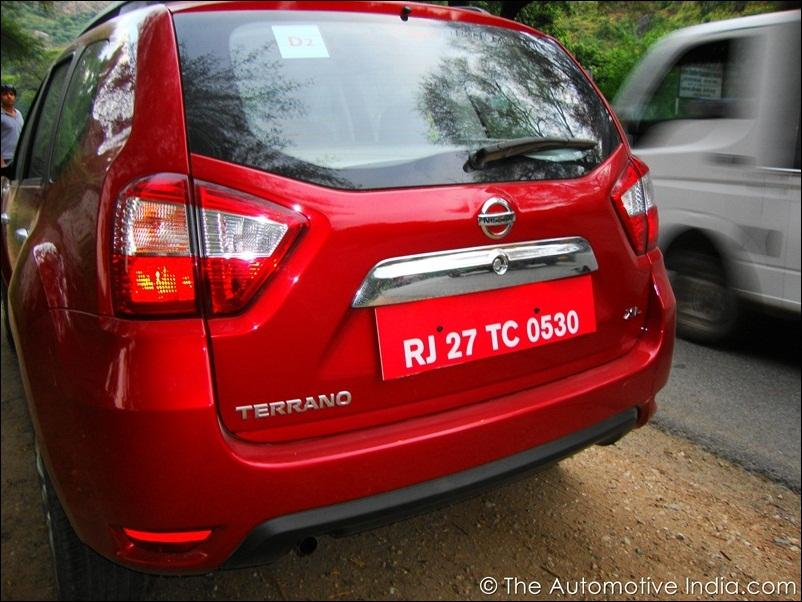License-Plate: (383, 306, 603, 378)
